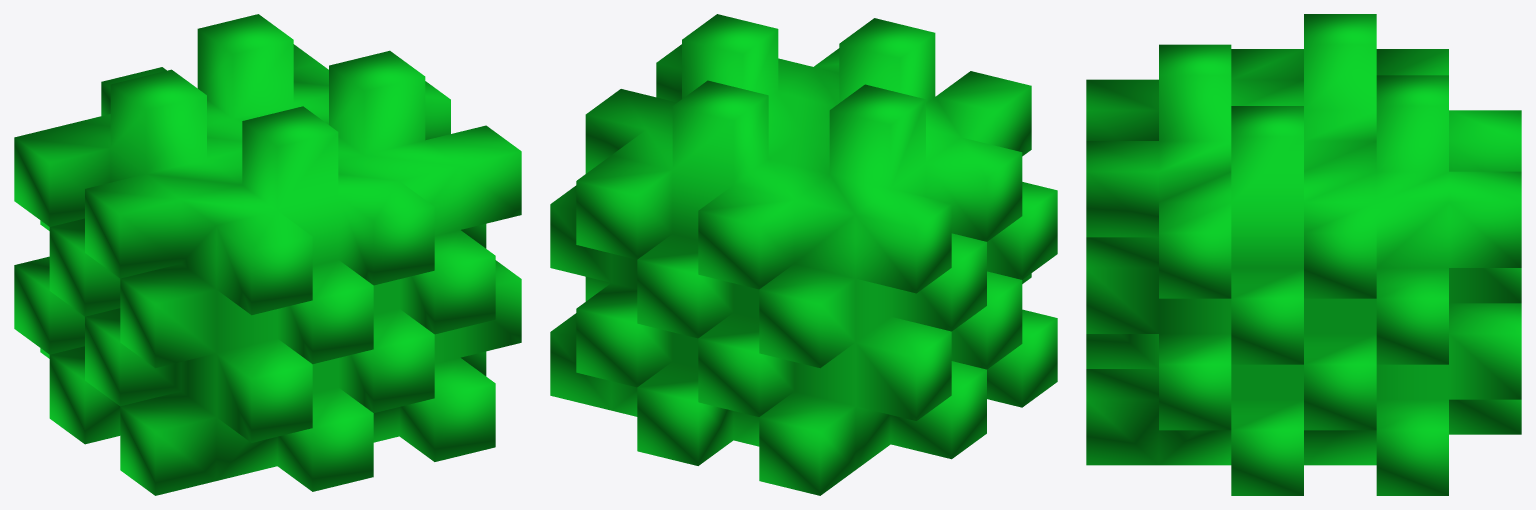
The model's file is bush.fbx.
The picture shows the model from 3 angles, left to right: view 1: azimuth 30°, elevation 25°; view 2: azimuth 150°, elevation 25°; view 3: azimuth 270°, elevation 25°; orthographic projection. The views are drawn at different scales.
Parts seen in each view (by area): view 1: bush; view 2: bush; view 3: bush.
Part boxes in pixels (x1=…): bush: x1=14, y1=14, x2=521, y2=495; bush: x1=550, y1=14, x2=1057, y2=495; bush: x1=1086, y1=14, x2=1521, y2=495.
Bounding box in the file's own units: 3 × 2.5 × 3.
